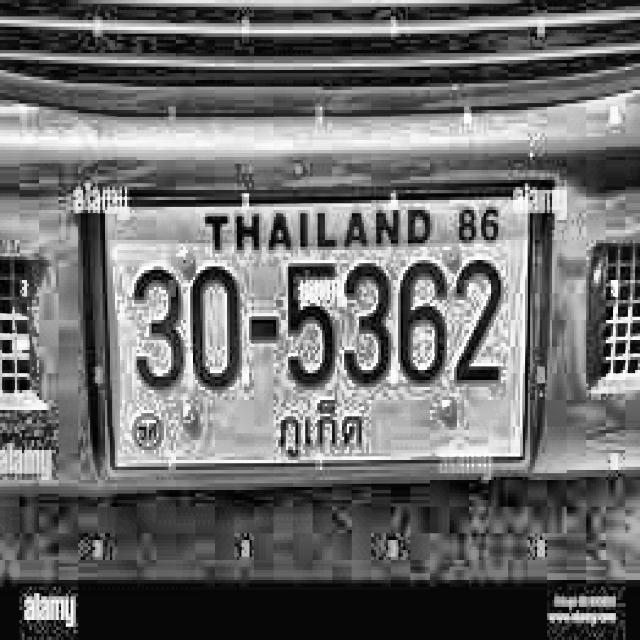license-plate: (81, 145, 562, 504)
